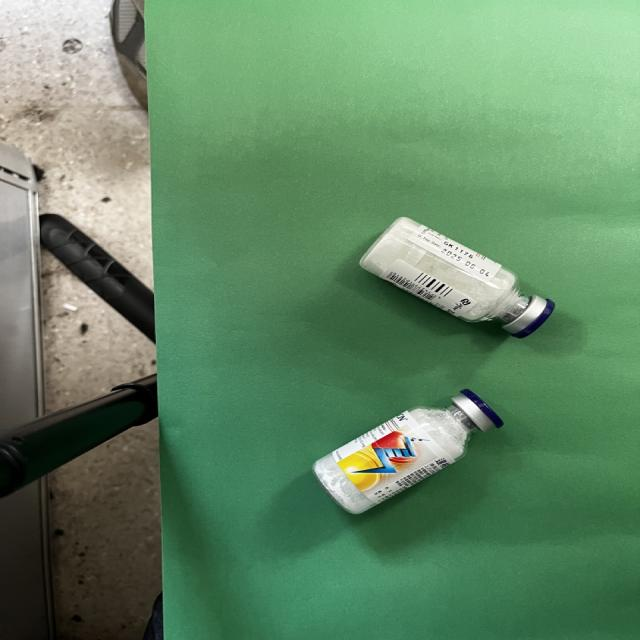Vials: (359, 217, 555, 338), (313, 390, 503, 514)
